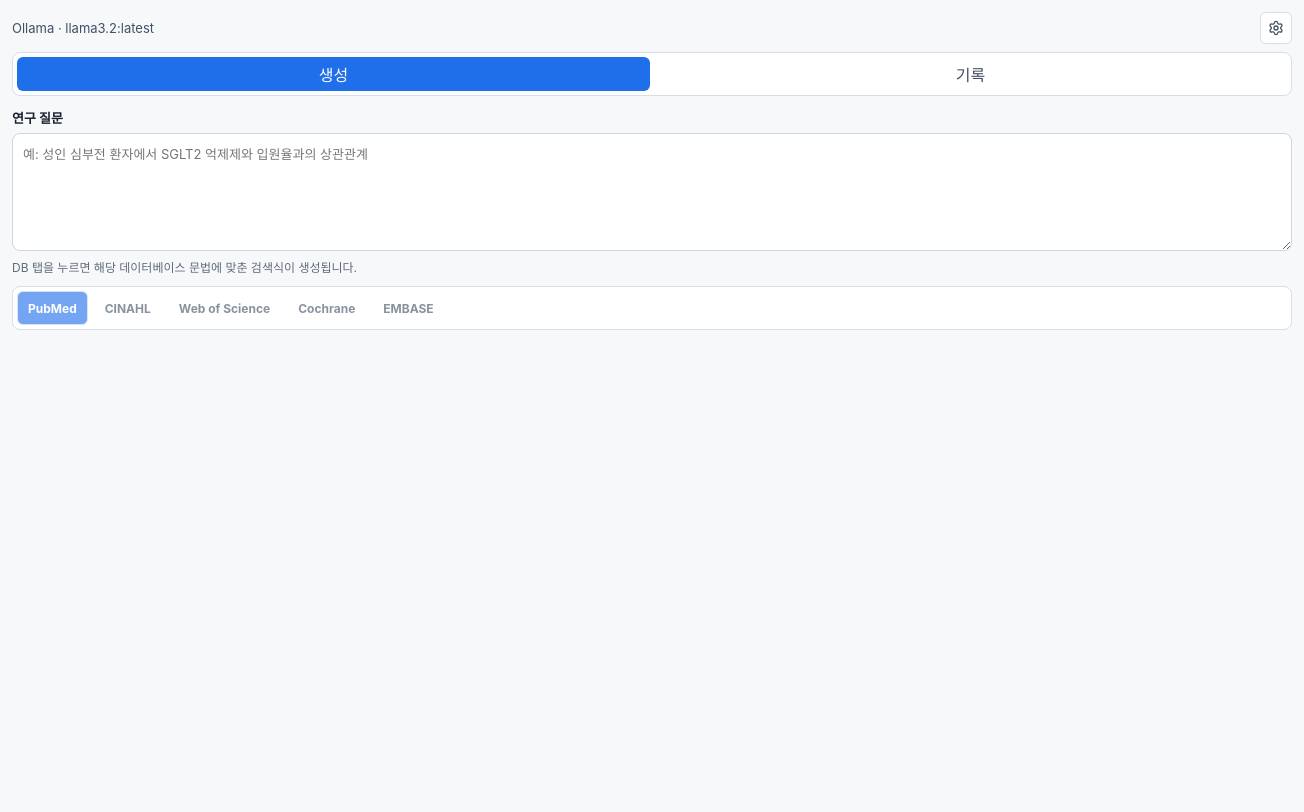
Test: Generator › generates database-specific results from tabs and preserves prior tab results
Type "노인 우울증 환자에서 운동 치료" into the text box labelled "연구 질문" at coordinates (652, 192), box 12,133 -> 1292,251
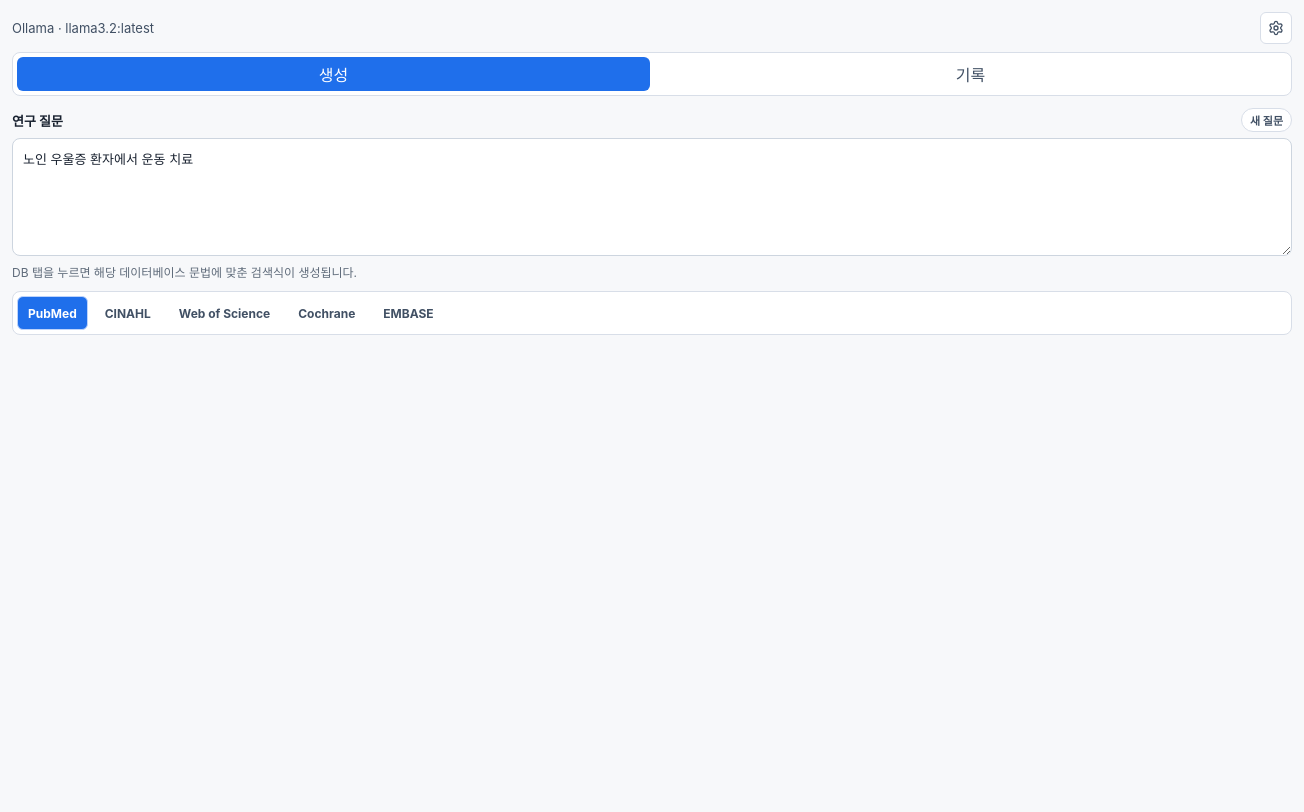
Expected: the tab "CINAHL" is shown, 94,296 -> 162,330
Click the tab "PubMed" at coordinates (52, 313), box 17,296 -> 88,330
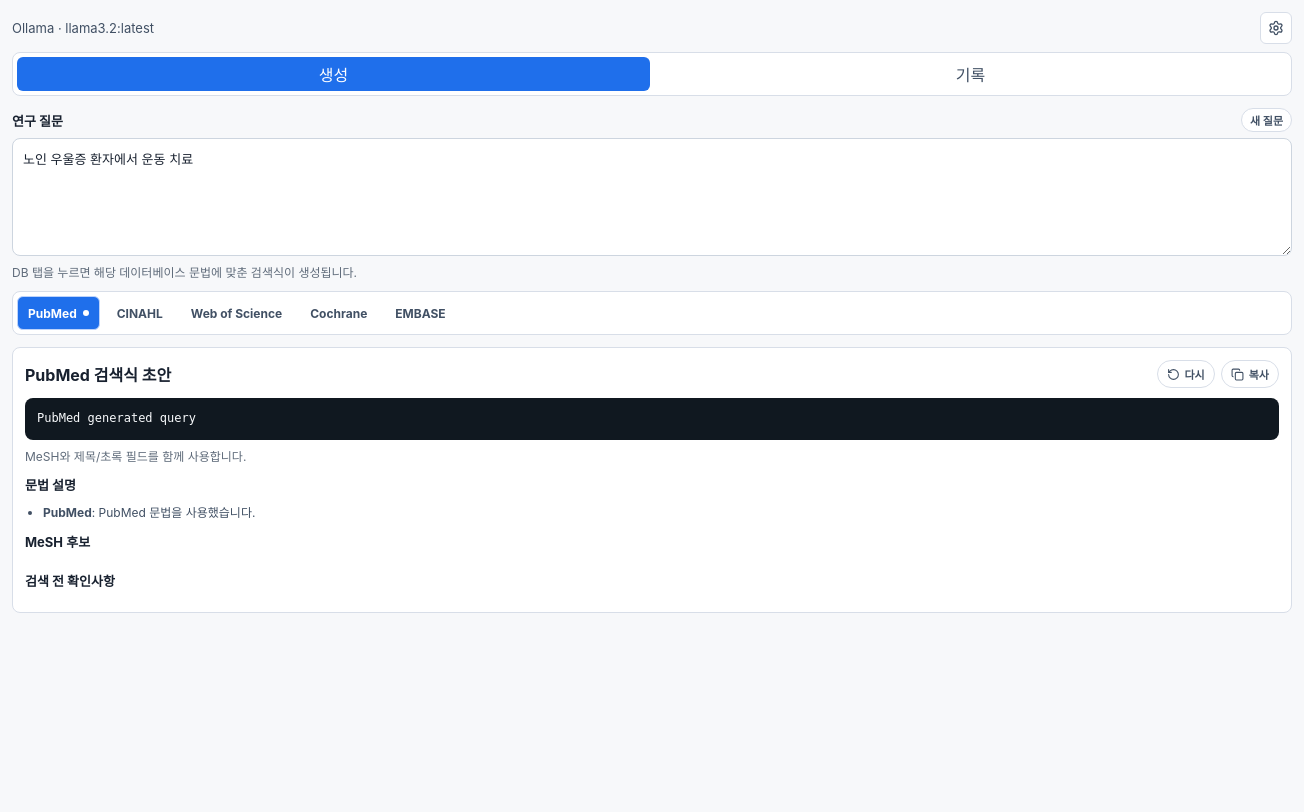
Now the text "PubMed generated query" is shown, box 25,398 -> 1279,440
Click the tab "CINAHL" at coordinates (140, 313), box 106,296 -> 174,330
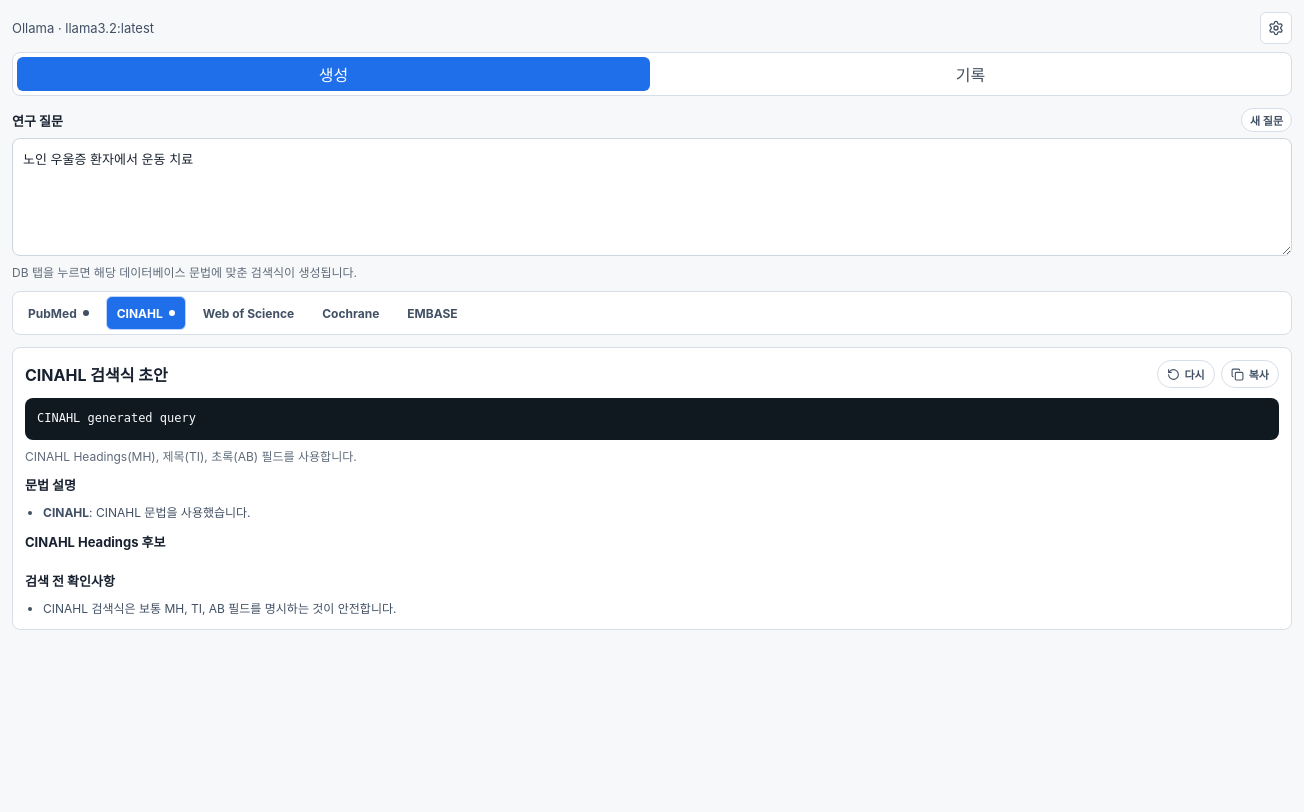
Now the text "CINAHL generated query" is shown, box 25,398 -> 1279,440
Click the tab "PubMed" at coordinates (58, 313), box 17,296 -> 100,330
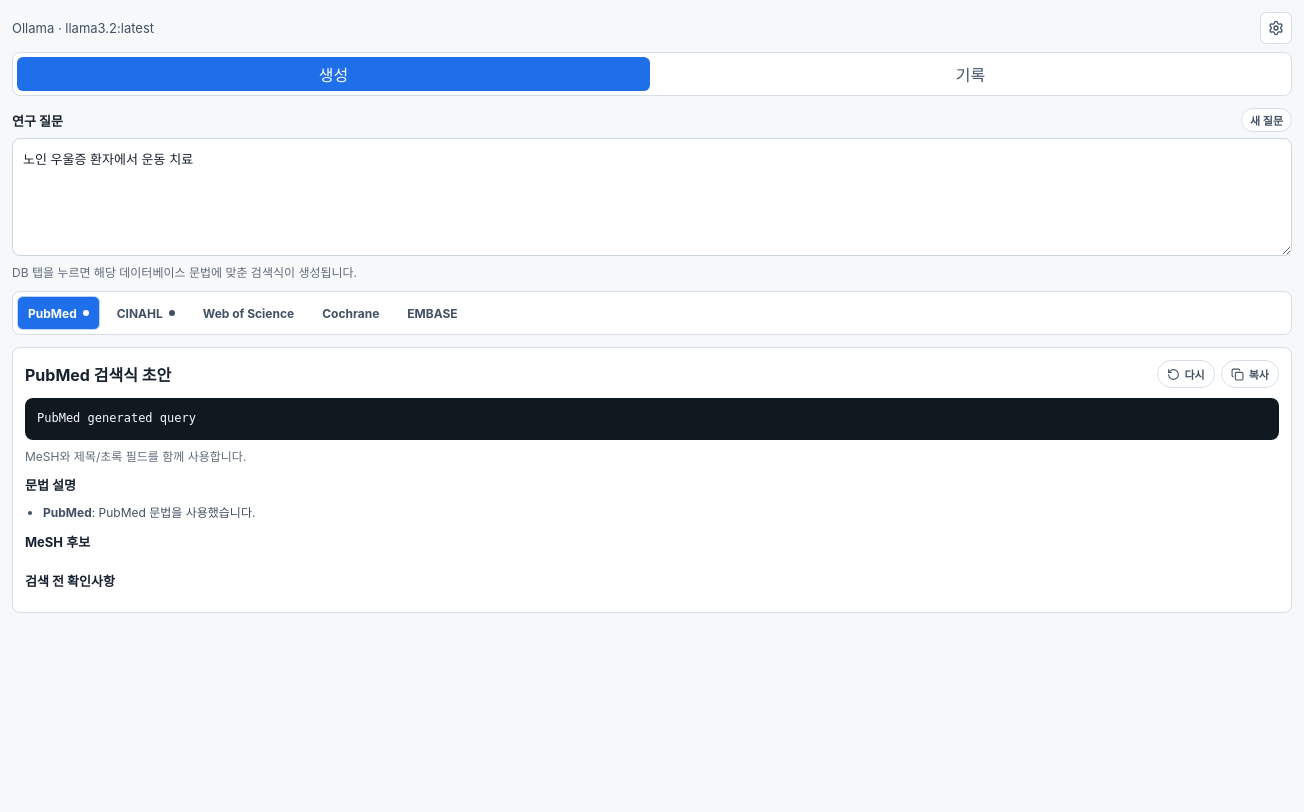
Now the text "PubMed generated query" is shown, box 25,398 -> 1279,440
Now the text "CINAHL generated query" is gone
